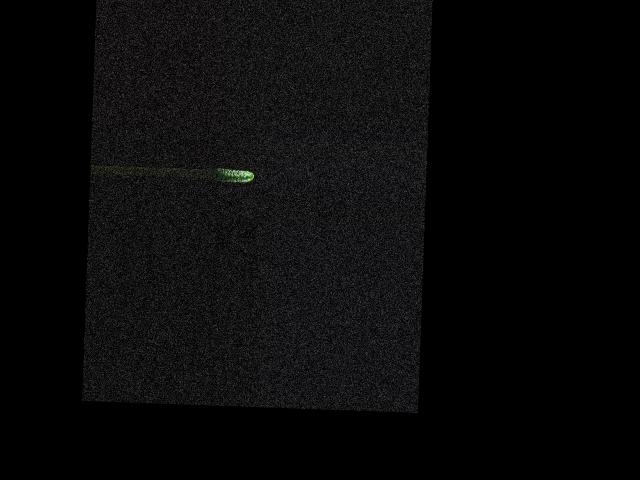cucumber: (212, 167, 254, 183)
